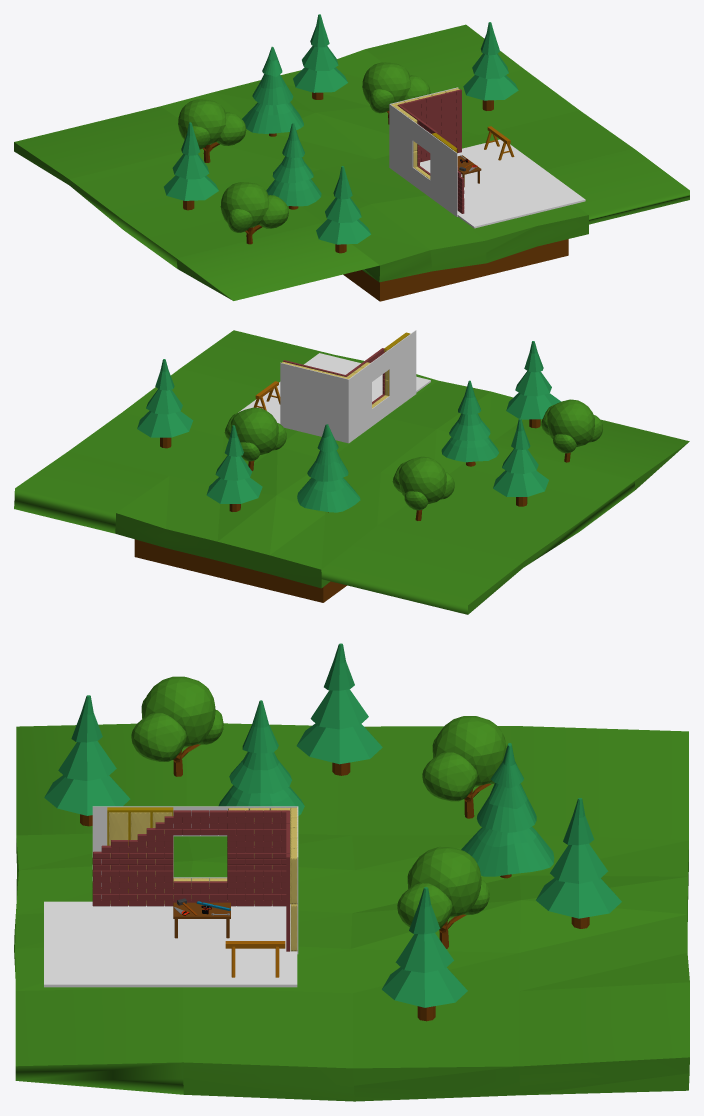
Rendered from world_prototyp_sscalefbx(1).fbx.
3 renders of one model, top to bottom at view 1: azimuth 30°, elevation 25°; view 2: azimuth 150°, elevation 25°; view 3: azimuth 270°, elevation 25°, orthographic. The views are drawn at different scales.
Parts seen in each view (by area): view 1: Ground, Cube, Cube.075, Cylinder.002, Icosphere.002, Icosphere.001, Cylinder.001, Icosphere.003, Cylinder.008, Cylinder.004, Cylinder, Cylinder.007; view 2: Ground, Cube.088, Cube.075, Cylinder.002, Cylinder.001, Icosphere.001, Icosphere.002, Cylinder.008, Cylinder.004, Cylinder.007, Icosphere.003, Cylinder (+1 smaller); view 3: Ground, Cube, Cylinder.002, Icosphere.002, Icosphere.001, Icosphere.003, Cylinder.008, Cylinder.004, Cylinder.007, Cylinder, Cylinder.001, Cube.002 (+12 smaller).
Boxes of the visible parts, x1,y1,x2,y2 form: Ground: (14, 24, 689, 301); Cube: (420, 139, 585, 228); Cube.075: (389, 104, 457, 216); Cylinder.002: (242, 46, 303, 136); Icosphere.002: (220, 182, 288, 244); Icosphere.001: (178, 99, 246, 162); Cylinder.001: (266, 123, 321, 209); Icosphere.003: (362, 62, 430, 124); Cylinder.008: (463, 22, 518, 110); Cylinder.004: (164, 122, 218, 210); Cylinder: (316, 166, 370, 253); Cylinder.007: (293, 14, 347, 99); Ground: (14, 330, 689, 614); Cube.088: (280, 362, 349, 443); Cube.075: (349, 330, 416, 442); Cylinder.002: (297, 424, 360, 512); Cylinder.001: (441, 380, 498, 466); Icosphere.001: (392, 456, 454, 520); Icosphere.002: (541, 399, 602, 462); Cylinder.008: (137, 359, 193, 448); Cylinder.004: (493, 418, 548, 506); Cylinder.007: (206, 425, 262, 511); Icosphere.003: (224, 407, 286, 470); Cylinder: (506, 341, 560, 428); Ground: (14, 723, 689, 1101); Cube: (44, 901, 297, 987); Cylinder.002: (461, 743, 554, 878); Icosphere.002: (131, 676, 223, 776); Icosphere.001: (422, 716, 506, 818); Icosphere.003: (397, 846, 489, 948); Cylinder.008: (382, 887, 467, 1021); Cylinder.004: (296, 643, 382, 775); Cylinder.007: (536, 798, 621, 928); Cylinder: (44, 695, 130, 826); Cylinder.001: (218, 700, 304, 815); Cube.002: (101, 881, 281, 900).
Bounding box in the file's own units: 9084 × 2518 × 7604.
